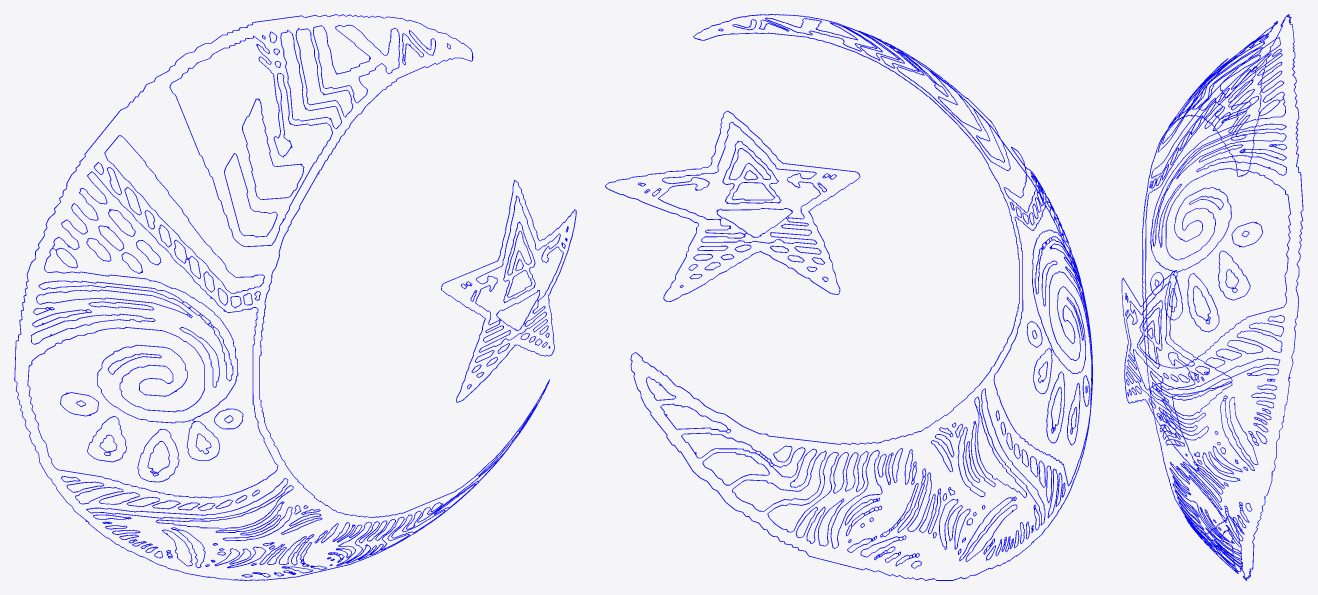
The picture shows the model from 3 angles, left to right: view 1: azimuth 30°, elevation 25°; view 2: azimuth 150°, elevation 25°; view 3: azimuth 270°, elevation 25°; orthographic projection. The views are drawn at different scales.
Bounding box in the file's own units: 1.64 × 1.65 × 0.5364.
